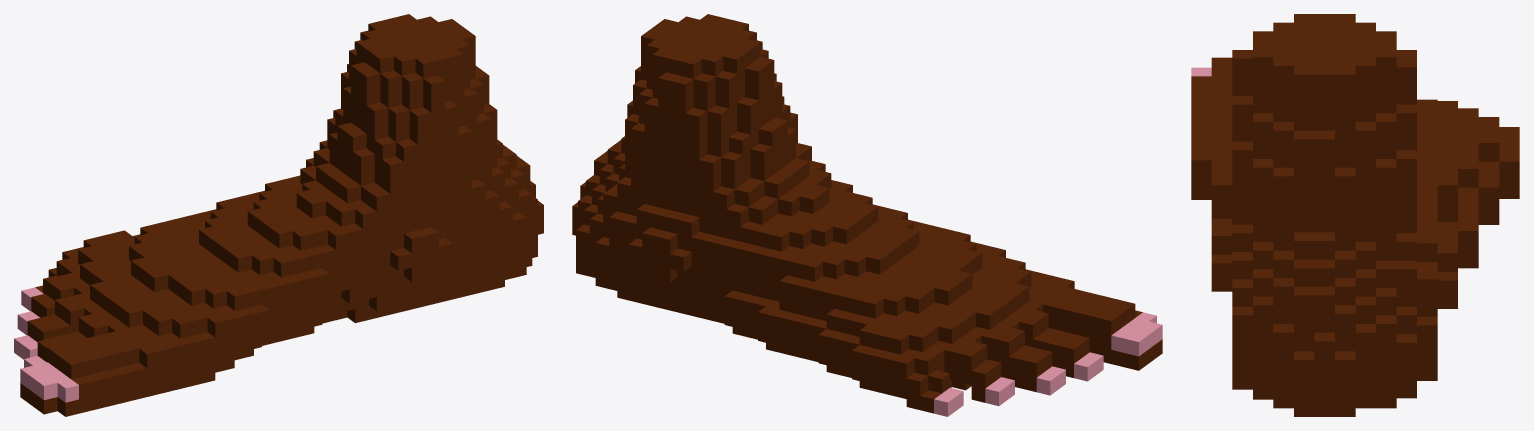
The model's file is Black.fbx.
3 renders of one model, left to right at view 1: azimuth 30°, elevation 25°; view 2: azimuth 150°, elevation 25°; view 3: azimuth 270°, elevation 25°, orthographic. The views are drawn at different scales.
Parts seen in each view (by area): view 1: Untitled; view 2: Untitled; view 3: Untitled.
Part boxes in pixels (x1,y1,x2,y2): Untitled: (14, 14, 543, 416); Untitled: (572, 14, 1162, 416); Untitled: (1191, 14, 1519, 416).
Size of the model in its own units: 390 by 170 by 160.
